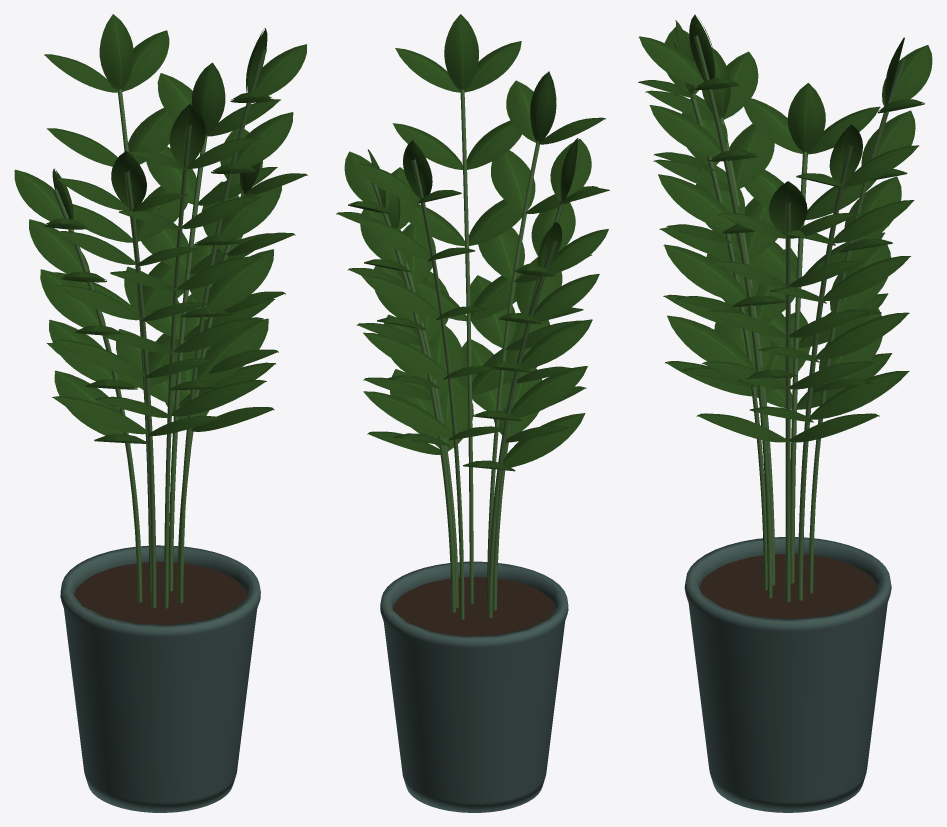
Rendered from plant.gltf.
3 views of the same model, side by side, from view 1: azimuth 30°, elevation 25°; view 2: azimuth 150°, elevation 25°; view 3: azimuth 270°, elevation 25° (orthographic). The views are drawn at different scales.
Visible parts, largest first — view 1: Curved compound leaf (×54), Ceramic planter (×2), Connected leaf stem (×8), Recessed potting soil (×2); view 2: Curved compound leaf (×50), Ceramic planter (×2), Connected leaf stem (×8), Recessed potting soil (×2); view 3: Curved compound leaf (×54), Ceramic planter (×2), Connected leaf stem (×8), Recessed potting soil (×2).
Boxes of the visible parts, bbox=[...] form: Curved compound leaf (×54): bbox=[14, 14, 306, 435]; Ceramic planter (×2): bbox=[60, 545, 260, 812]; Connected leaf stem (×8): bbox=[52, 48, 266, 608]; Recessed potting soil (×2): bbox=[74, 562, 247, 624]; Curved compound leaf (×50): bbox=[344, 14, 608, 467]; Ceramic planter (×2): bbox=[380, 561, 568, 812]; Connected leaf stem (×8): bbox=[371, 89, 578, 619]; Recessed potting soil (×2): bbox=[392, 577, 555, 636]; Curved compound leaf (×54): bbox=[639, 14, 932, 442]; Ceramic planter (×2): bbox=[684, 537, 891, 812]; Connected leaf stem (×8): bbox=[673, 35, 906, 602]; Recessed potting soil (×2): bbox=[699, 553, 876, 619].
Size of what is drawn, in the model's own units: 0.5258 by 1.55 by 0.5179.
Materials: 4 (1 with a texture image).
